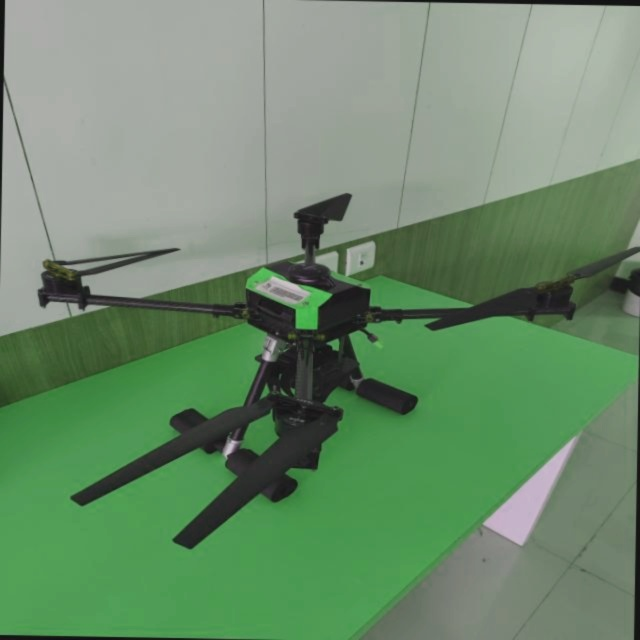quadcopter: (25, 179, 640, 559)
